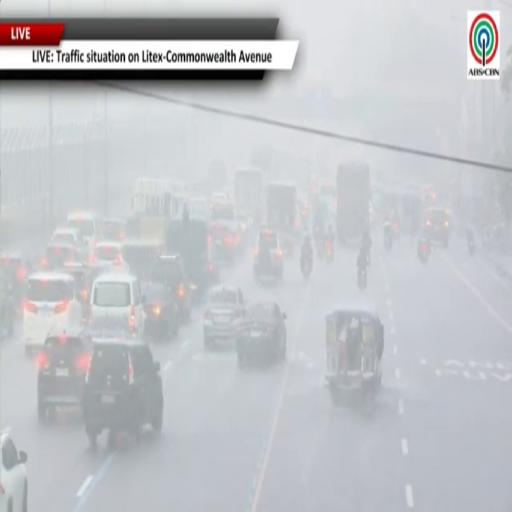car: (83, 339, 163, 449), (37, 327, 92, 421), (23, 272, 81, 355), (90, 274, 144, 335), (237, 301, 286, 365), (150, 255, 191, 322), (203, 284, 245, 349), (0, 430, 28, 511), (143, 282, 180, 339), (60, 263, 97, 319), (122, 239, 162, 281), (0, 251, 31, 303), (254, 228, 283, 279), (210, 221, 241, 262), (67, 212, 100, 250), (87, 316, 131, 342), (0, 268, 16, 339), (41, 243, 83, 270), (424, 207, 452, 247), (91, 242, 128, 271), (51, 227, 87, 253), (210, 199, 236, 222), (102, 218, 125, 241), (189, 198, 209, 220)
motorcycle: (418, 242, 430, 264), (301, 258, 312, 280), (384, 226, 393, 251), (467, 232, 476, 255), (325, 240, 333, 263), (316, 239, 325, 259), (358, 268, 366, 290), (384, 234, 392, 251), (468, 241, 476, 256)
truck: (127, 179, 179, 242), (336, 162, 371, 245), (265, 182, 297, 255), (234, 168, 262, 223), (207, 158, 227, 193)
